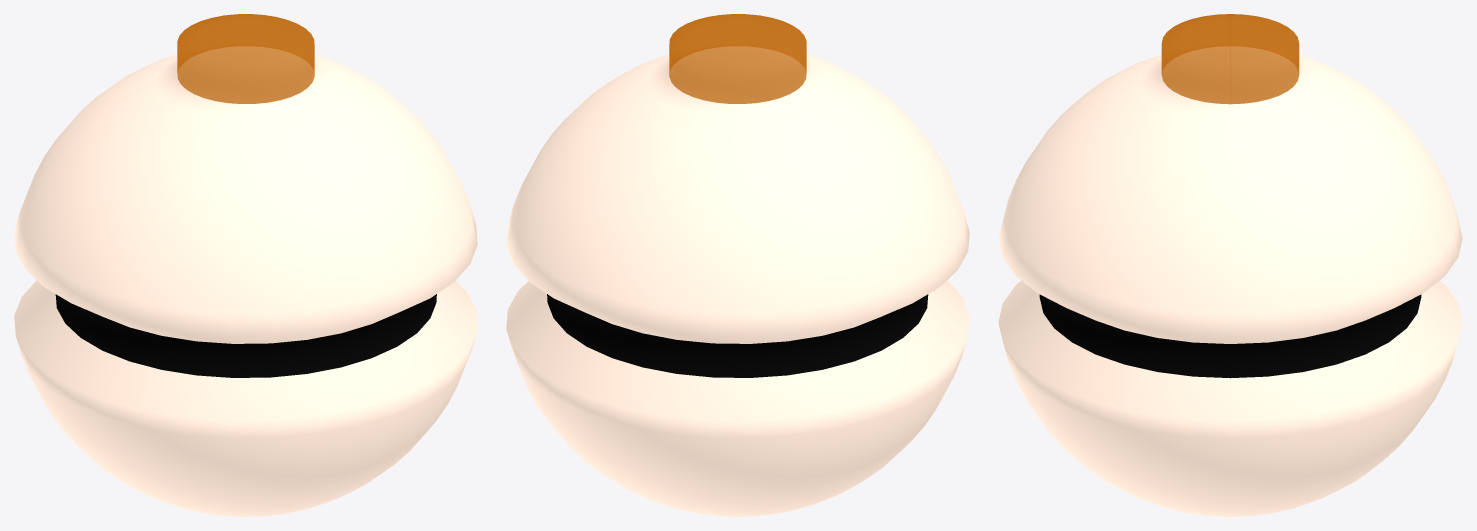
Rendered from proxy.fbx.
3 views of the same model, side by side, from view 1: azimuth 30°, elevation 25°; view 2: azimuth 150°, elevation 25°; view 3: azimuth 270°, elevation 25° (orthographic).
Visible parts, largest first — view 1: Sphere; view 2: Sphere; view 3: Sphere.
Part boxes in pixels (box(x1,y1,x2,y2)): Sphere: box(14, 14, 477, 516); Sphere: box(506, 14, 969, 516); Sphere: box(998, 14, 1462, 516).
Size of the model in its own units: 1.96 by 2.15 by 1.96.
